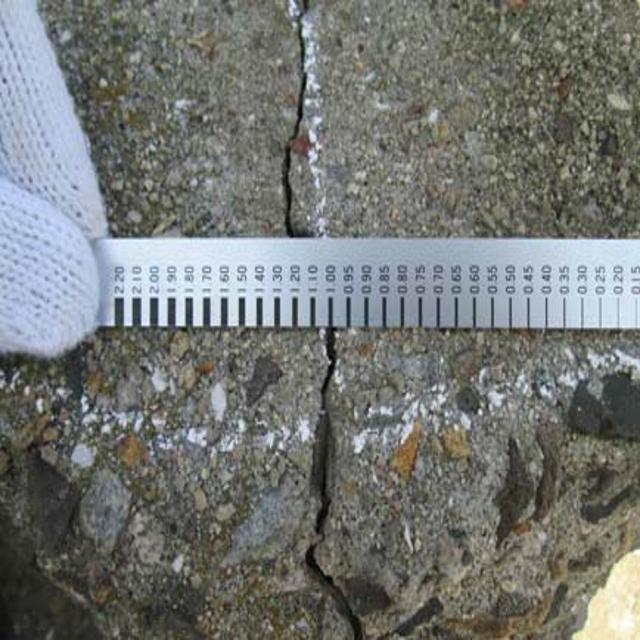crack: (294, 335, 368, 640), (262, 11, 318, 246)
